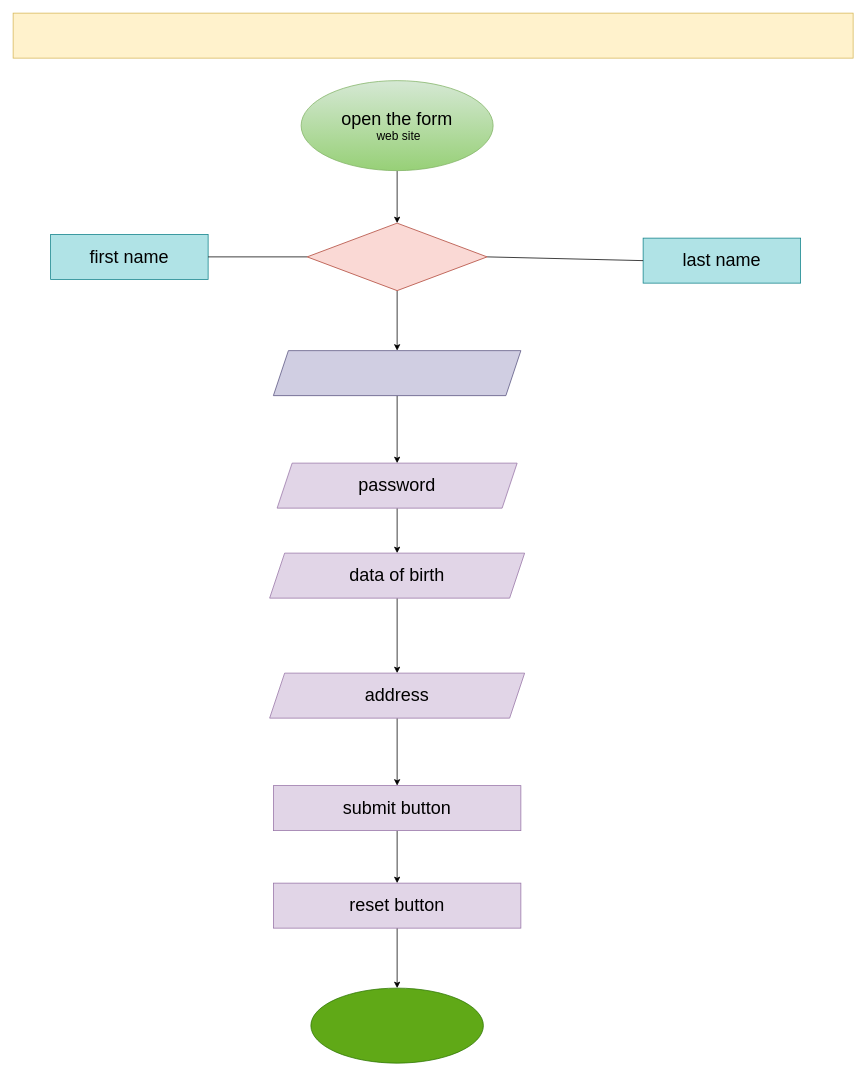
This 866x1076 diagram has some shape labels left out. Here are the shapes that lost their labels. From the top down, the centre of each, then its label:
At point (432, 35): "WEB APPLICATION LIFE CYCLE FLOW CHART".
At point (396, 256): "enter name".
At point (397, 373): "enter your email".
At point (396, 1025): "close the form website".
